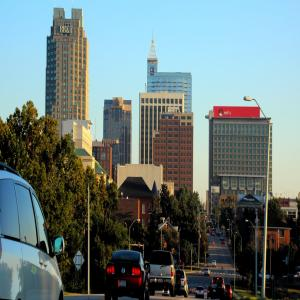Vehicle-registration-plate: (120, 280, 127, 287)
